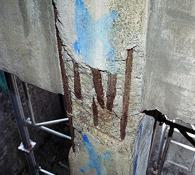Exposed reinforcement: (52, 1, 75, 153), (119, 47, 134, 140), (89, 66, 105, 110), (106, 71, 118, 113), (73, 62, 84, 100), (91, 95, 99, 127)
Spalling: (51, 1, 146, 161)
